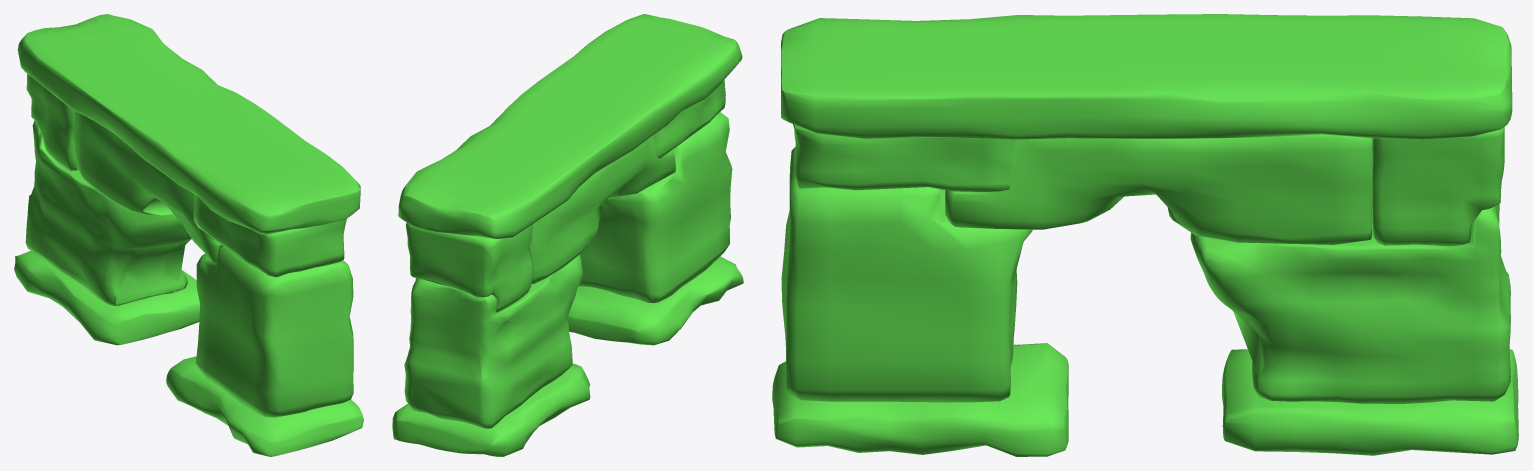
Rendered from stoneWallARKASOBRANAYA_low.fbx.
3 views of the same model, side by side, from view 1: azimuth 30°, elevation 25°; view 2: azimuth 150°, elevation 25°; view 3: azimuth 270°, elevation 25° (orthographic). The views are drawn at different scales.
Parts seen in each view (by area): view 1: Cube07_low, Cube01_low, Cube04_low, Cube08_low, Cube02_low, Cube06_low, Cube03_low, Cube05_low; view 2: Cube07_low, Cube04_low, Cube01_low, Cube05_low, Cube02_low, Cube06_low, Cube08_low, Cube03_low; view 3: Cube07_low, Cube01_low, Cube04_low, Cube02_low, Cube06_low, Cube08_low, Cube05_low, Cube03_low.
Part boxes in pixels (box(x1,y1,x2,y2)): Cube07_low: box(17, 14, 360, 234); Cube01_low: box(195, 245, 353, 417); Cube04_low: box(25, 120, 191, 305); Cube08_low: box(14, 251, 199, 345); Cube02_low: box(73, 111, 221, 264); Cube06_low: box(166, 356, 363, 456); Cube03_low: box(193, 194, 346, 277); Cube05_low: box(26, 74, 77, 170); Cube07_low: box(398, 14, 742, 238); Cube04_low: box(404, 254, 582, 428); Cube01_low: box(579, 112, 732, 302); Cube05_low: box(405, 222, 533, 312); Cube02_low: box(529, 136, 675, 283); Cube06_low: box(567, 256, 743, 345); Cube08_low: box(392, 363, 590, 456); Cube03_low: box(652, 79, 725, 158); Cube07_low: box(781, 14, 1512, 139); Cube01_low: box(781, 147, 1032, 402); Cube04_low: box(1190, 203, 1510, 403); Cube02_low: box(945, 134, 1372, 244); Cube06_low: box(772, 343, 1068, 456); Cube08_low: box(1222, 349, 1518, 455); Cube05_low: box(1372, 127, 1504, 246); Cube03_low: box(793, 124, 1012, 191).
Bounding box in the file's own units: 266 × 529 × 990.
